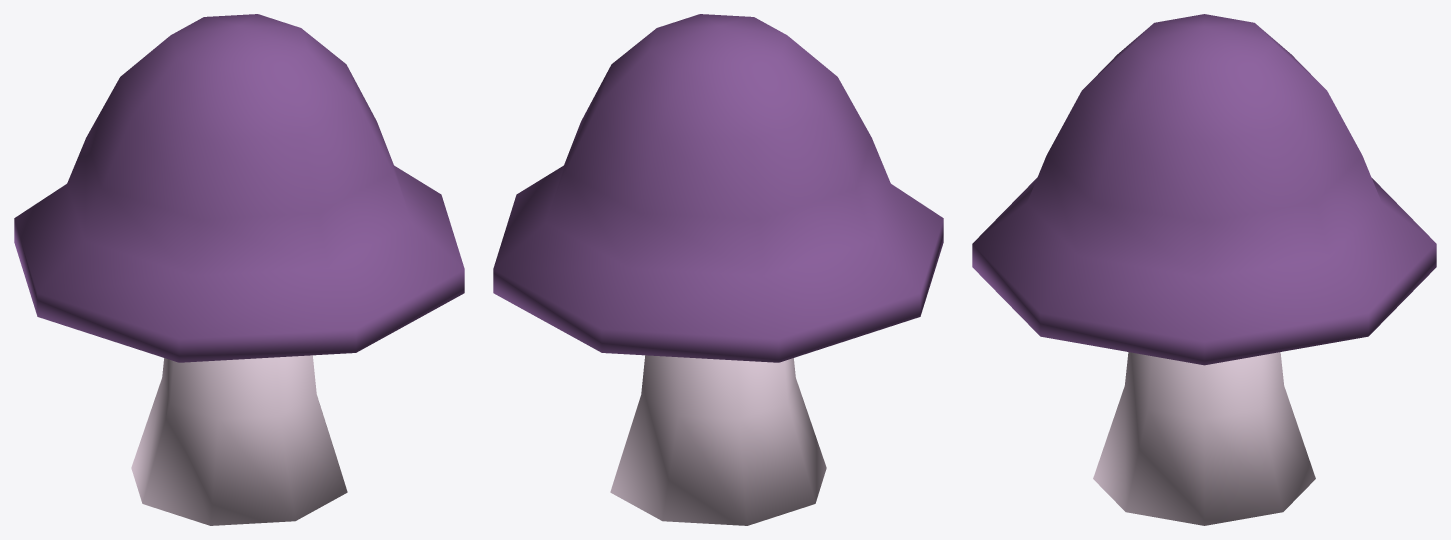
Rendered from PurpleMushroom.glb.
3 views of the same model, side by side, from view 1: azimuth 30°, elevation 25°; view 2: azimuth 150°, elevation 25°; view 3: azimuth 270°, elevation 25° (orthographic).
Parts seen in each view (by area): view 1: PurpleMushroom; view 2: PurpleMushroom; view 3: PurpleMushroom.
Boxes of the visible parts, box(x1,y1,x2,y2) form: PurpleMushroom: box(14, 14, 464, 525); PurpleMushroom: box(493, 14, 943, 525); PurpleMushroom: box(972, 14, 1436, 525).
Size of the model in its own units: 1.5 by 1.61 by 1.5.
